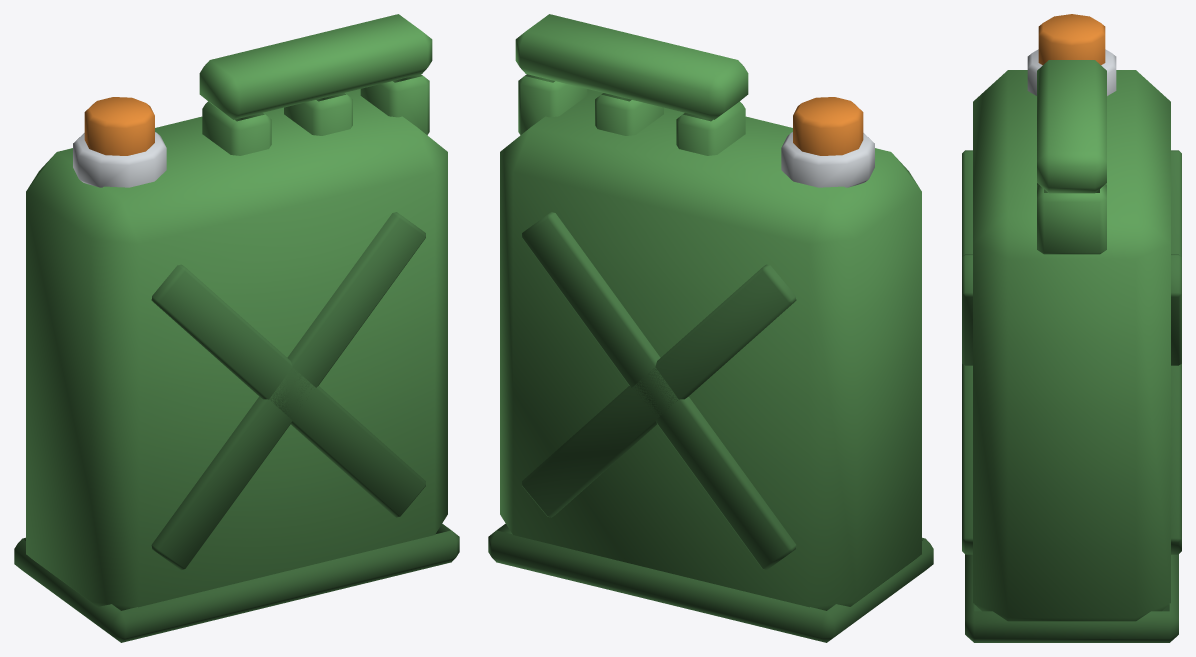
File: JerryCan_01.glb
3 views of the same model, side by side, from view 1: azimuth 30°, elevation 25°; view 2: azimuth 150°, elevation 25°; view 3: azimuth 270°, elevation 25° (orthographic).
Visible parts, largest first — view 1: SM_JerryCan_01; view 2: SM_JerryCan_01; view 3: SM_JerryCan_01.
Boxes of the visible parts, x1,y1,x2,y2 form: SM_JerryCan_01: (14,14,459,642); SM_JerryCan_01: (488,14,933,642); SM_JerryCan_01: (962,14,1181,642).
Size of the model in its own units: 0.355 by 0.47 by 0.189.
1 material, 1 textured.
